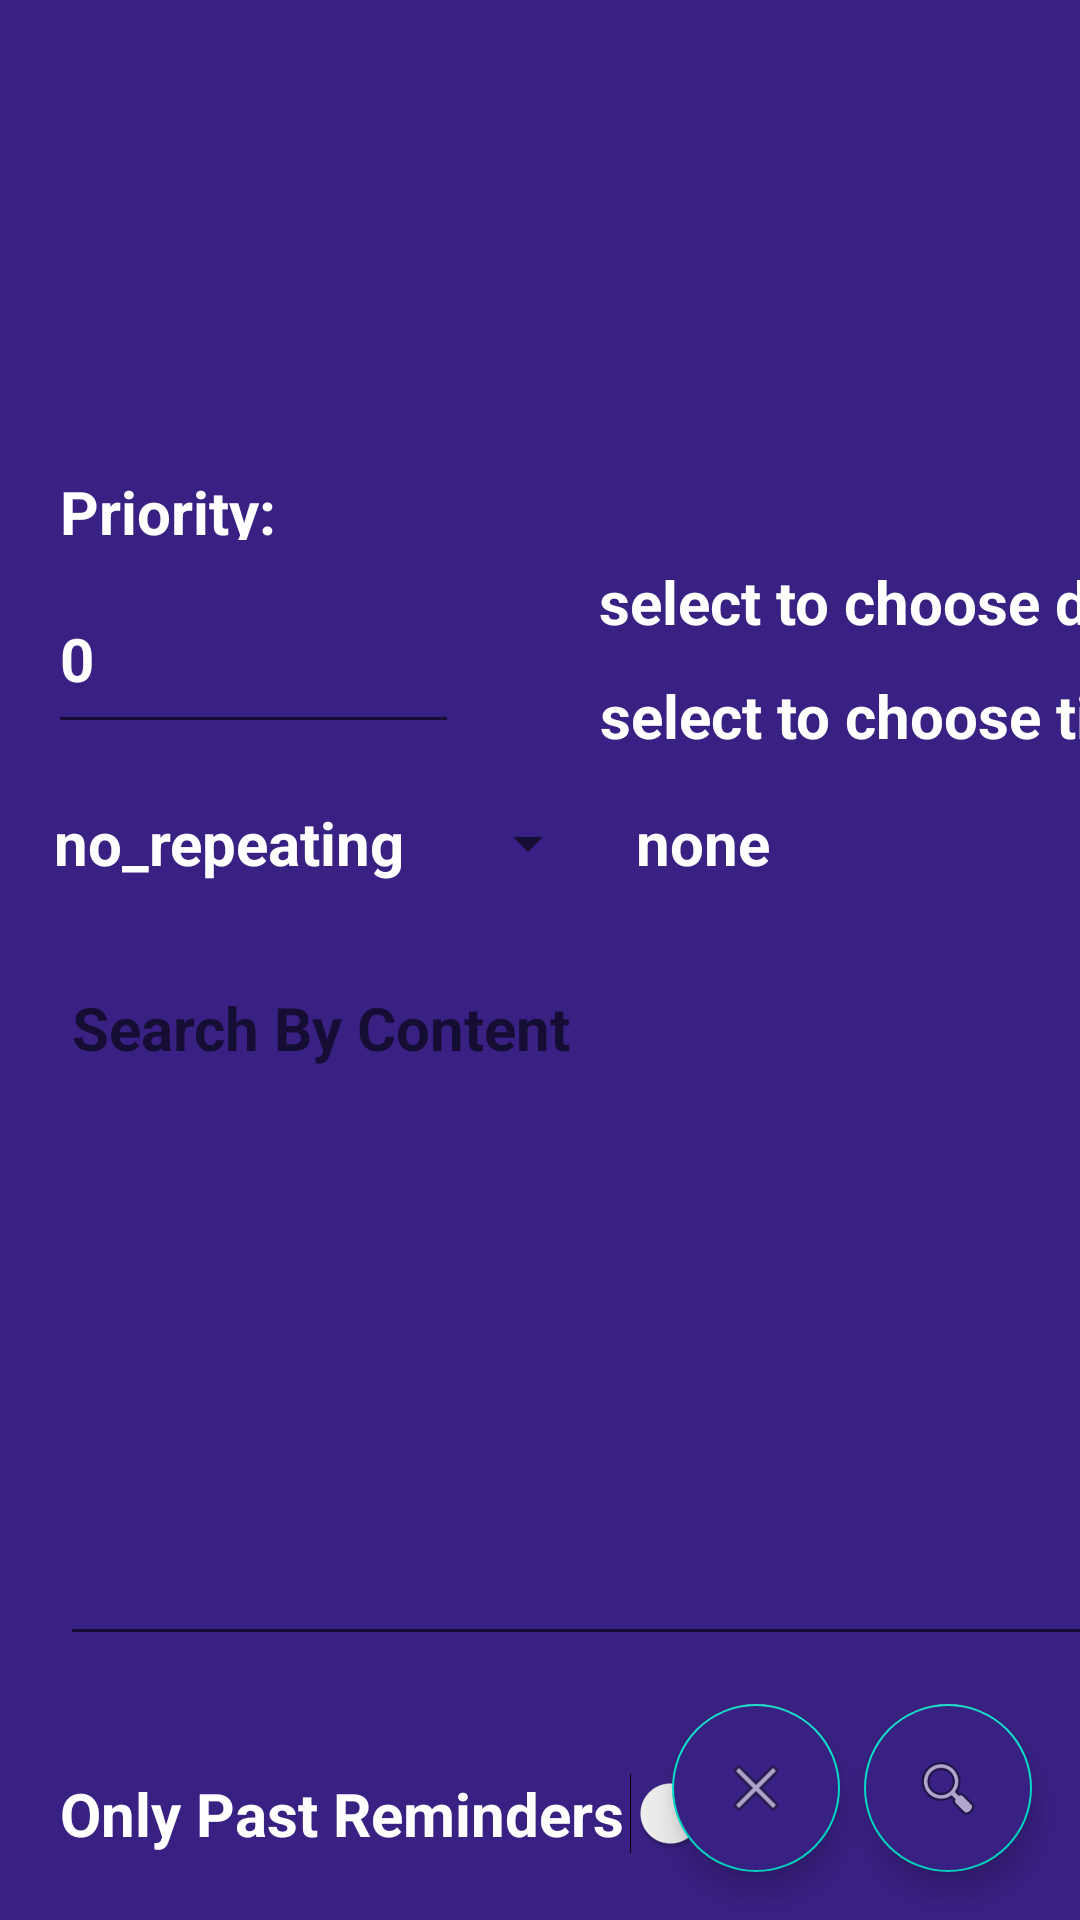

Named icons in this screenshot (1080 x 1920) and their bounding boxes, (x1, y1, x2, y2):
close clear cancel: (672, 1704, 840, 1872)
